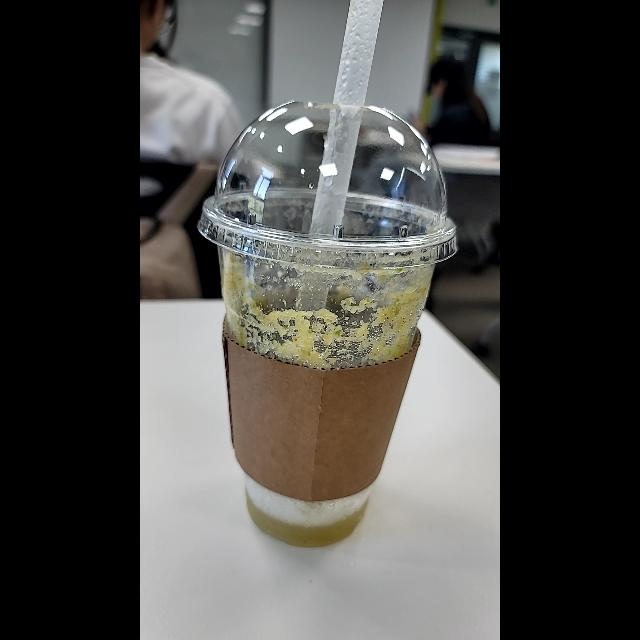plastic_cup: (193, 95, 464, 550)
plastic_cup_lid: (193, 96, 459, 278)
straw: (285, 0, 387, 308)
